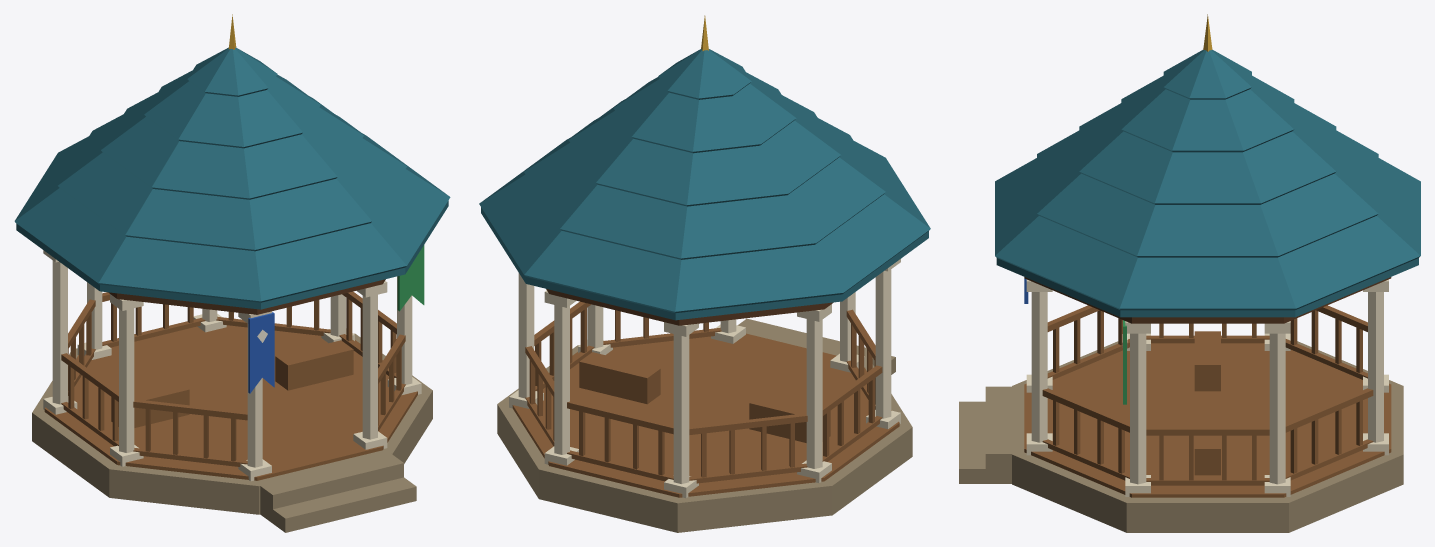
The model's file is Gazebo.fbx.
3 renders of one model, left to right at view 1: azimuth 30°, elevation 25°; view 2: azimuth 150°, elevation 25°; view 3: azimuth 270°, elevation 25°, orthographic. The views are drawn at different scales.
Visible parts, largest first — view 1: Gazebo; view 2: Gazebo; view 3: Gazebo.
Boxes of the visible parts, left/top/right/bottom form: Gazebo: left=14, top=14, right=450, bottom=532; Gazebo: left=479, top=15, right=930, bottom=532; Gazebo: left=959, top=14, right=1420, bottom=532.
Bounding box in the file's own units: 6.43 × 7.27 × 6.97.
